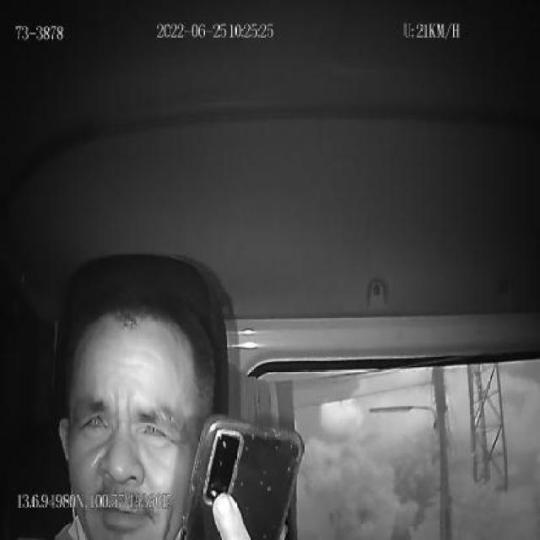phone: (184, 412, 304, 540)
